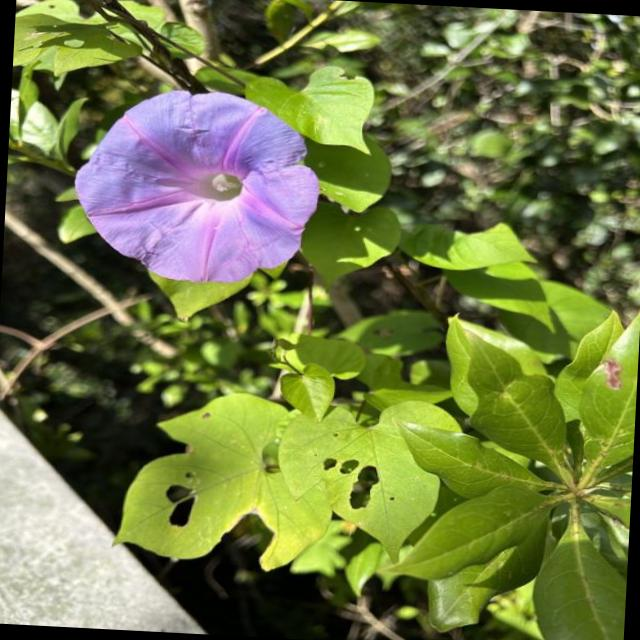ipomoea: (66, 82, 328, 292)
